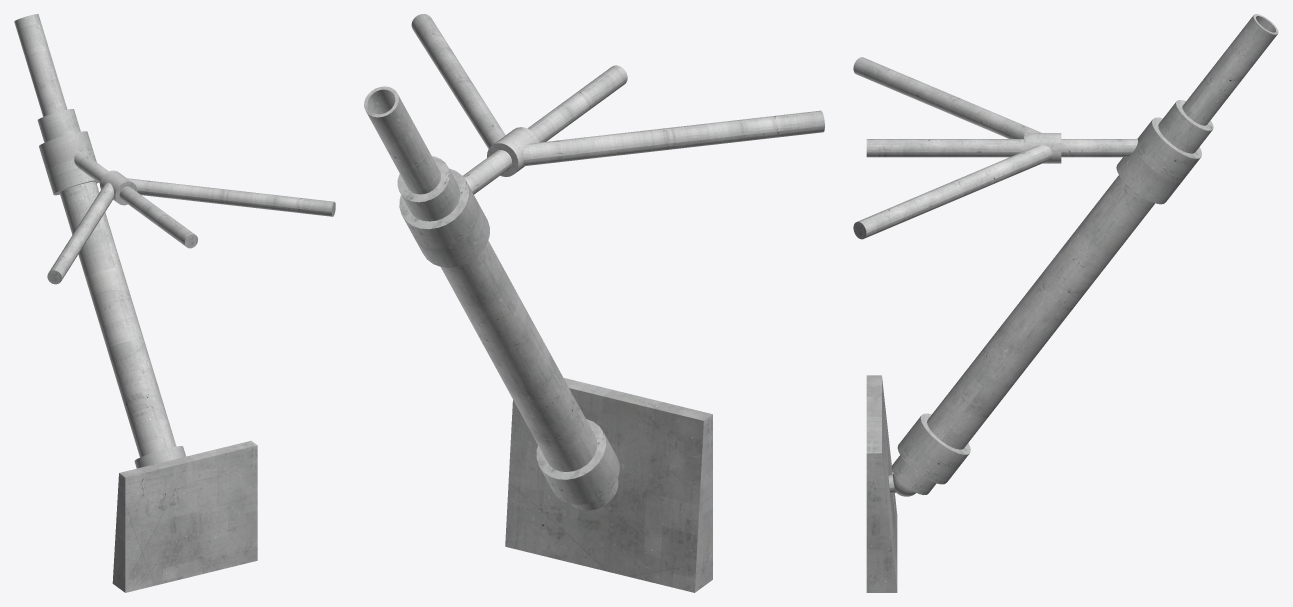
File: MortarUnderMid.dae
3 views of the same model, side by side, from view 1: azimuth 30°, elevation 25°; view 2: azimuth 150°, elevation 25°; view 3: azimuth 270°, elevation 25° (orthographic). The views are drawn at different scales.
Parts seen in each view (by area): view 1: group_1, group_2 (×2), group_8, group_4, group_6, group_7, group_3, group_9; view 2: group_1, group_2 (×2), group_7, group_4, group_6, group_8, group_3, group_9; view 3: group_2 (×2), group_1, group_6, group_8, group_4, group_7, group_3, group_9.
Part boxes in pixels (<box>): group_1: <box>112,440,257,592</box>; group_2 (×2): <box>14,14,176,457</box>; group_8: <box>127,178,335,216</box>; group_4: <box>39,131,98,195</box>; group_6: <box>74,152,197,248</box>; group_7: <box>47,182,114,284</box>; group_3: <box>134,446,185,468</box>; group_9: <box>100,170,137,205</box>; group_1: <box>505,378,712,592</box>; group_2 (×2): <box>364,86,618,510</box>; group_7: <box>523,110,824,166</box>; group_4: <box>399,168,489,267</box>; group_6: <box>463,65,627,194</box>; group_8: <box>411,14,505,148</box>; group_3: <box>536,419,619,504</box>; group_9: <box>487,127,539,176</box>; group_2 (×2): <box>891,14,1278,495</box>; group_1: <box>866,375,897,592</box>; group_6: <box>866,139,1137,157</box>; group_8: <box>853,145,1052,239</box>; group_4: <box>1116,117,1201,204</box>; group_7: <box>853,57,1041,138</box>; group_3: <box>897,413,970,484</box>; group_9: <box>1024,133,1061,163</box>.
Size of the model in its own units: 25.75 by 27.18 by 37.94.
Materials: 1 (1 with a texture image).
